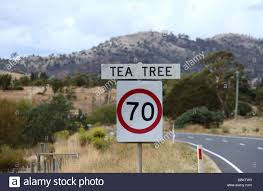Speed_limit_70km: (116, 89, 163, 134)
